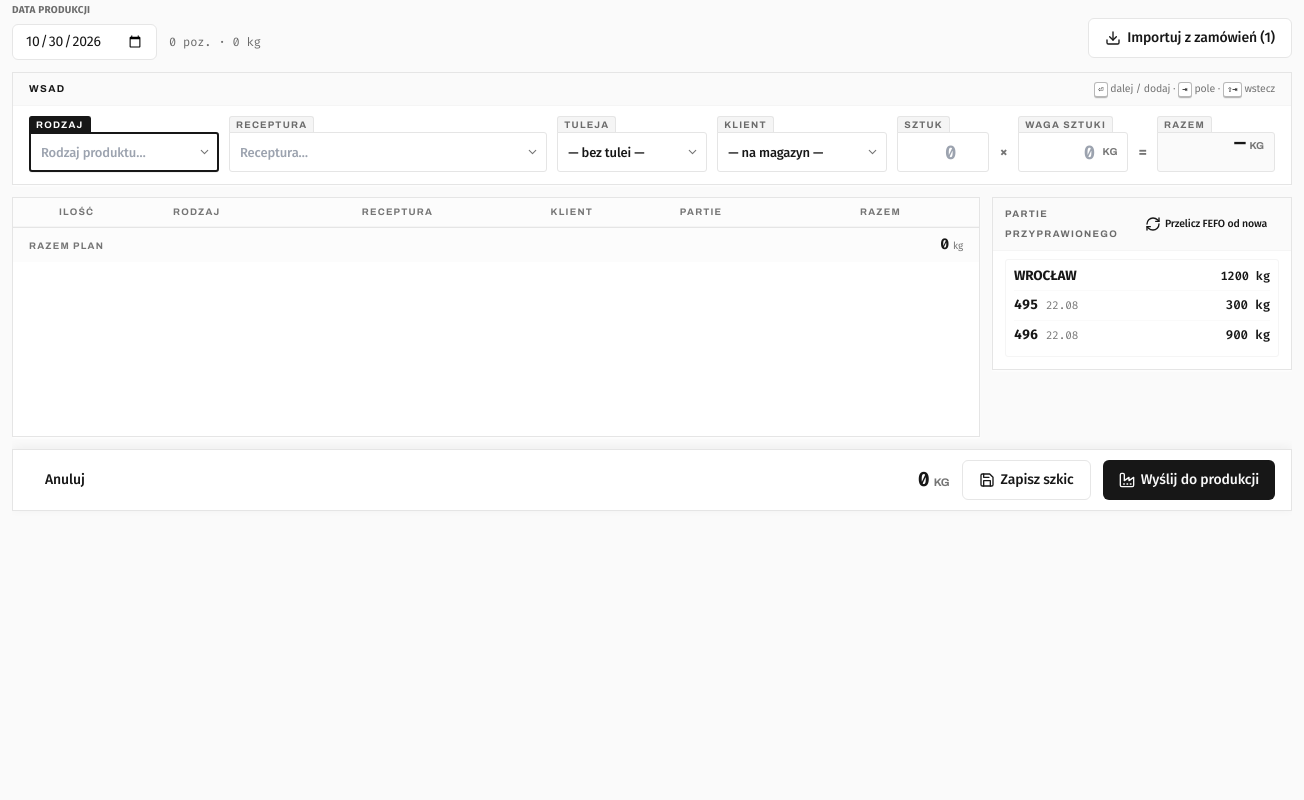
Test: PlanEditor › pusty plan nie da się zapisać
Click the button "Zapisz szkic". click: coordinates (1026, 480)
box: [962,460,1091,500]
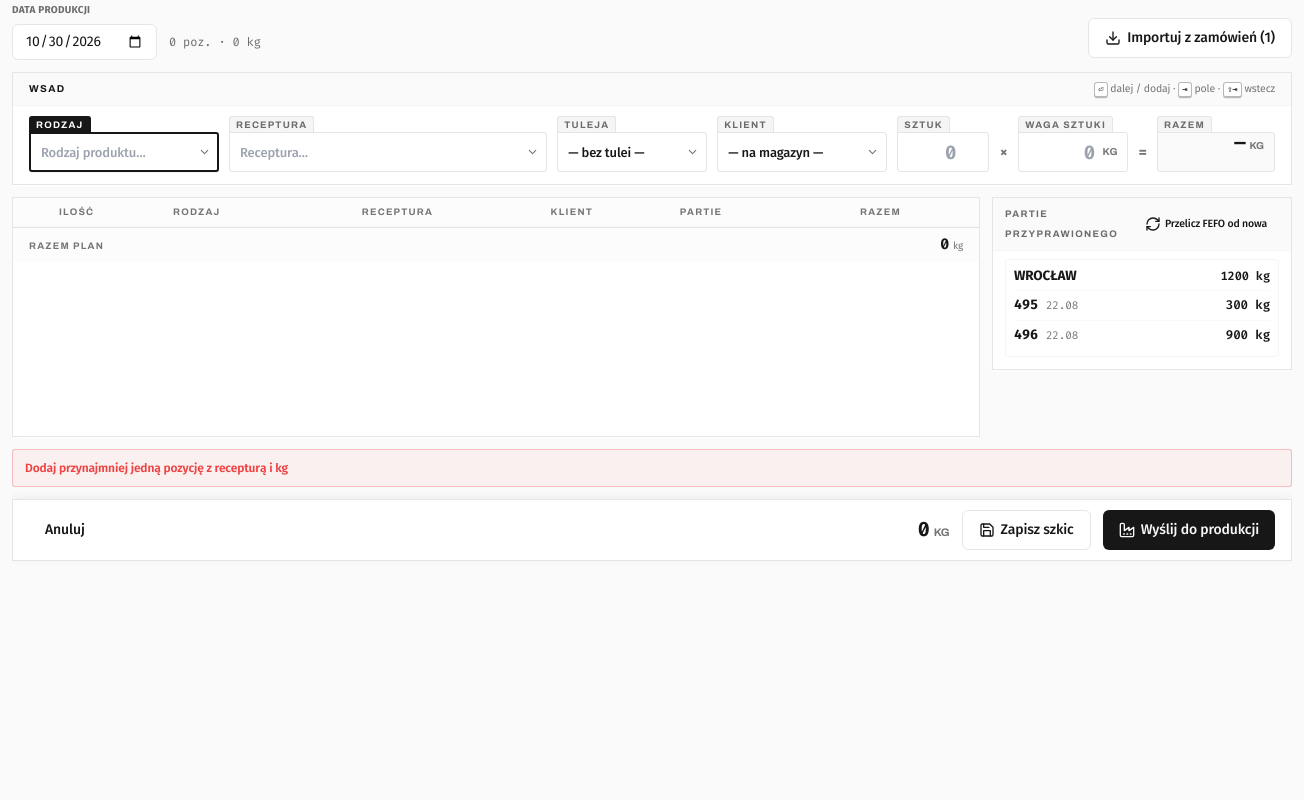
expect the text "Dodaj przynajmniej jedną pozycję z recepturą i kg" is shown: met, box [12,449,1292,487]
